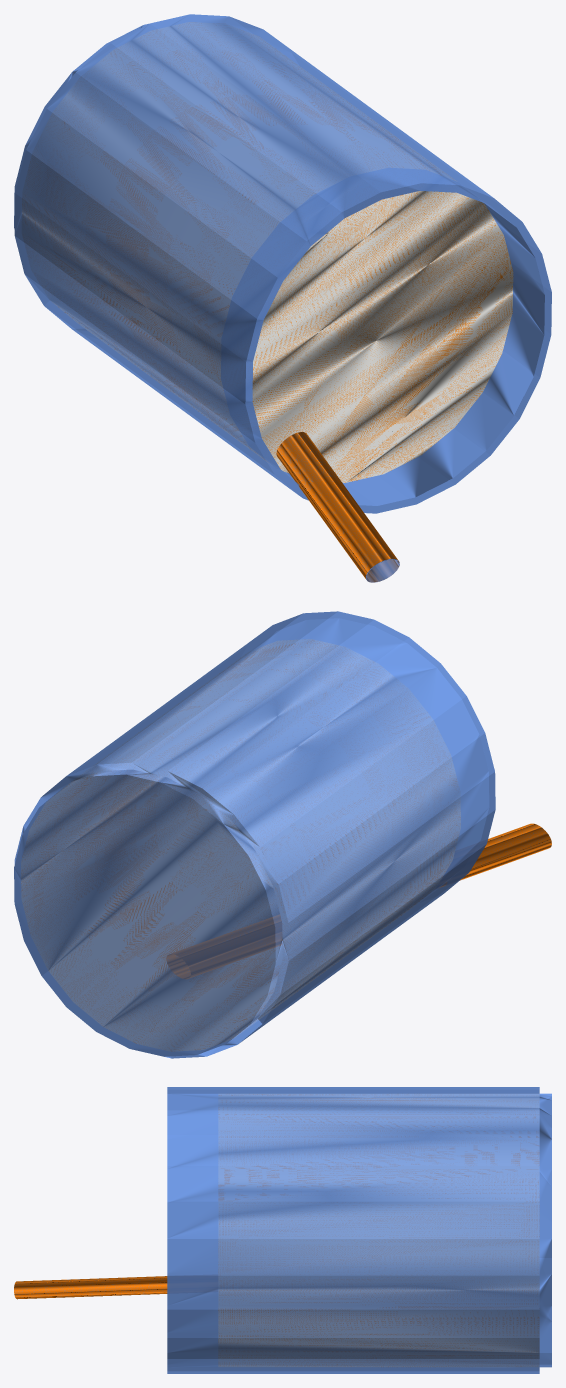
File: model_align.obj
3 renders of one model, top to bottom at view 1: azimuth 30°, elevation 25°; view 2: azimuth 150°, elevation 25°; view 3: azimuth 270°, elevation 25°, orthographic. The views are drawn at different scales.
Bounding box in the file's own units: 0.0614 × 0.0614 × 0.1157.
